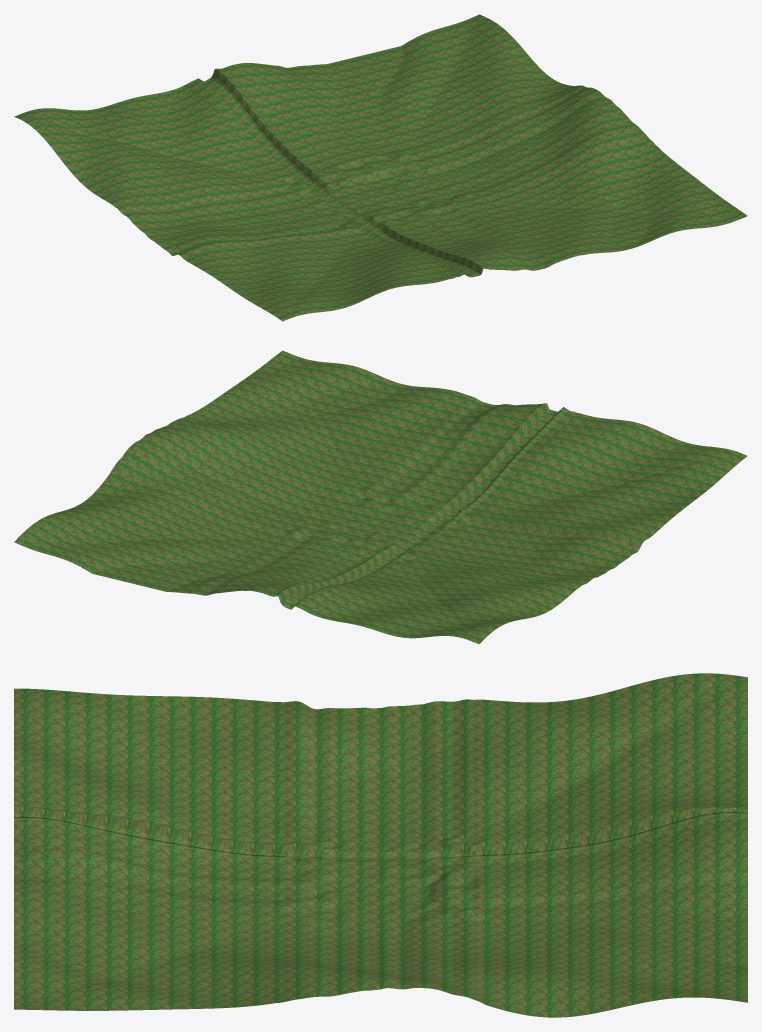
Rendered from terrain_checkpoint.glb.
3 renders of one model, top to bottom at view 1: azimuth 30°, elevation 25°; view 2: azimuth 150°, elevation 25°; view 3: azimuth 270°, elevation 25°, orthographic. The views are drawn at different scales.
Visible parts, largest first — view 1: terrain_hills; view 2: terrain_hills; view 3: terrain_hills.
Part boxes in pixels (x1=…): terrain_hills: x1=14, y1=14, x2=747, y2=321; terrain_hills: x1=14, y1=350, x2=747, y2=644; terrain_hills: x1=14, y1=673, x2=747, y2=1017.
Size of the model in its own units: 280 by 24.34 by 280.
1 material, 1 textured.
